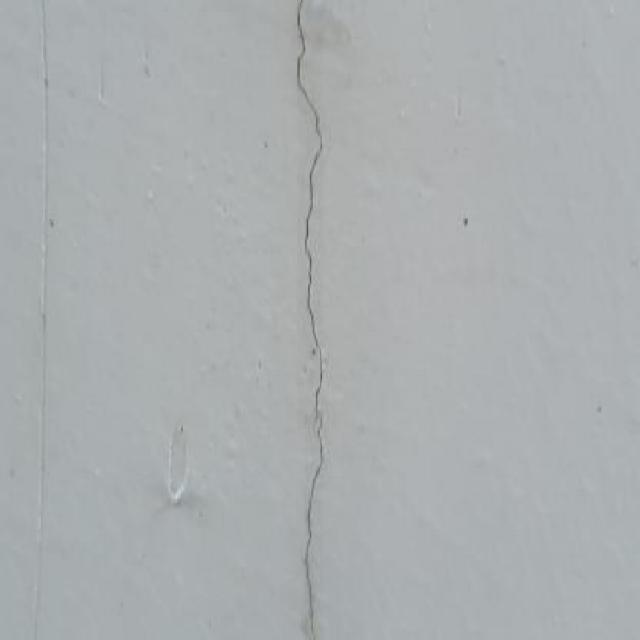vertical crack: (297, 3, 323, 429), (306, 415, 323, 635)
